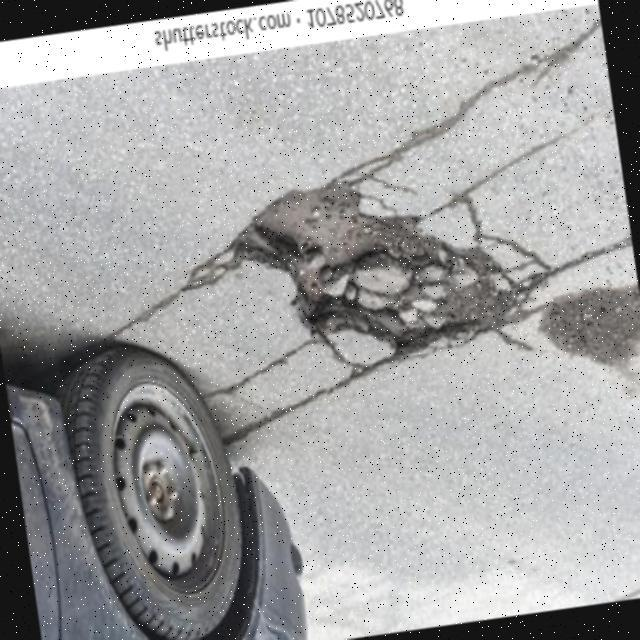Pothole: (187, 157, 534, 366)
